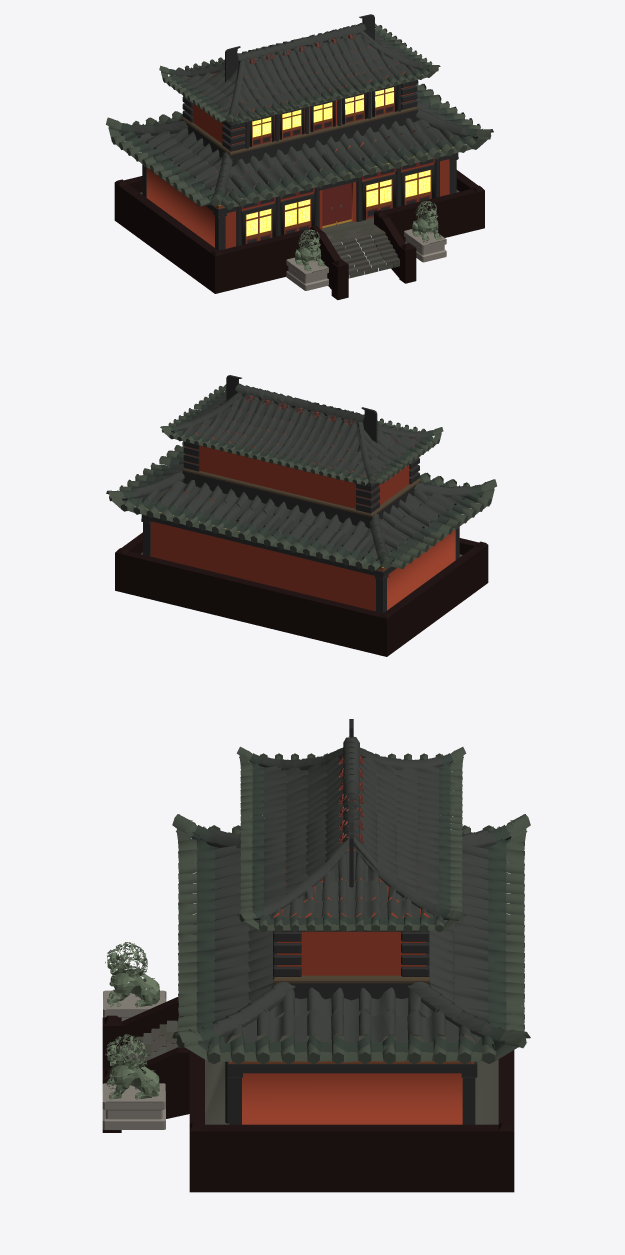
File: cntemple.glb
3 renders of one model, top to bottom at view 1: azimuth 30°, elevation 25°; view 2: azimuth 150°, elevation 25°; view 3: azimuth 270°, elevation 25°, orthographic. The views are drawn at different scales.
Visible parts, largest first — view 1: BrickFloor.008_StoneFloorBrick2_0; view 2: BrickFloor.008_StoneFloorBrick2_0; view 3: BrickFloor.008_StoneFloorBrick2_0.
Part boxes in pixels (x1,y1,x2,y2): BrickFloor.008_StoneFloorBrick2_0: (106, 14, 493, 299); BrickFloor.008_StoneFloorBrick2_0: (106, 375, 496, 656); BrickFloor.008_StoneFloorBrick2_0: (102, 719, 530, 1192).
Bounding box in the file's own units: 3086 × 1627 × 2389.
26 materials, 1 textured.
